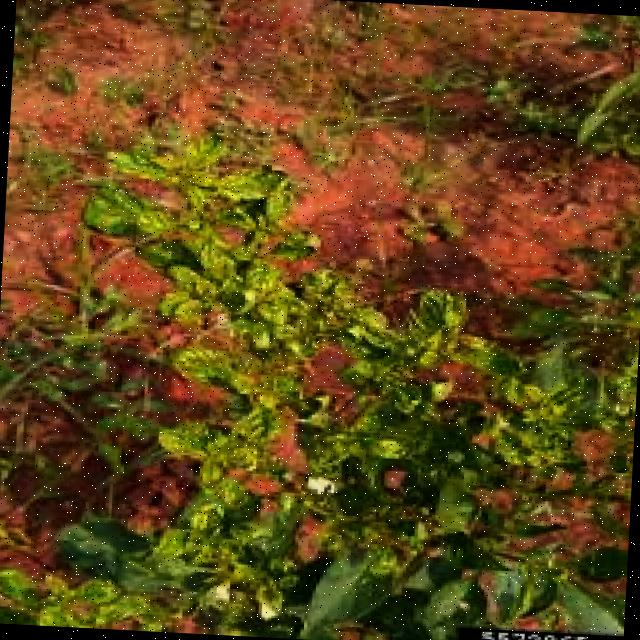leaf curl: (56, 134, 610, 613)
